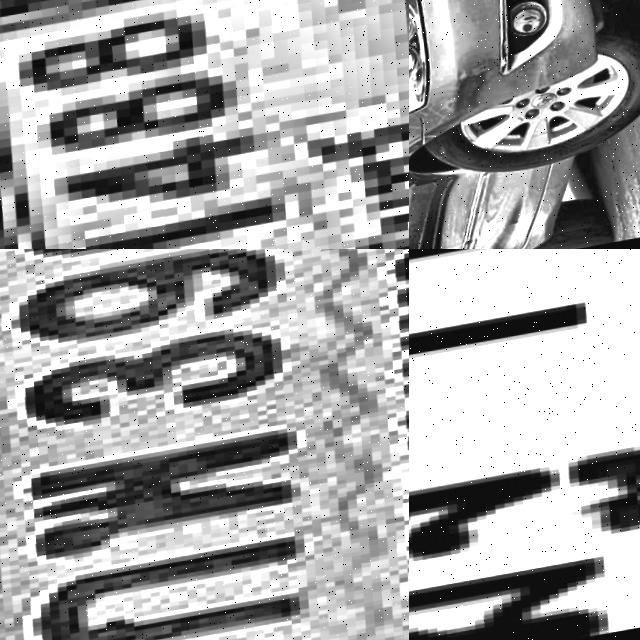license-plate: (0, 249, 409, 640), (0, 0, 409, 249), (409, 249, 640, 640)
